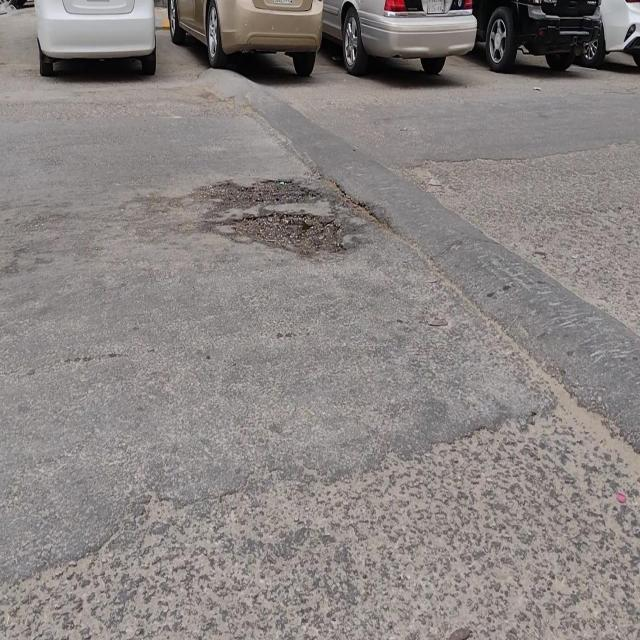Pothole: (213, 179, 339, 258)
